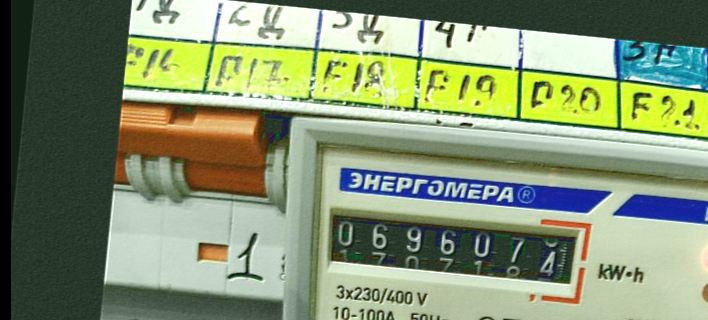0: (471, 226, 493, 255), (336, 214, 357, 244)
4: (537, 245, 558, 274)
6: (369, 218, 390, 247), (438, 223, 459, 252)
7: (506, 230, 528, 261)
9: (403, 221, 424, 251)
screen: (311, 189, 597, 303)
